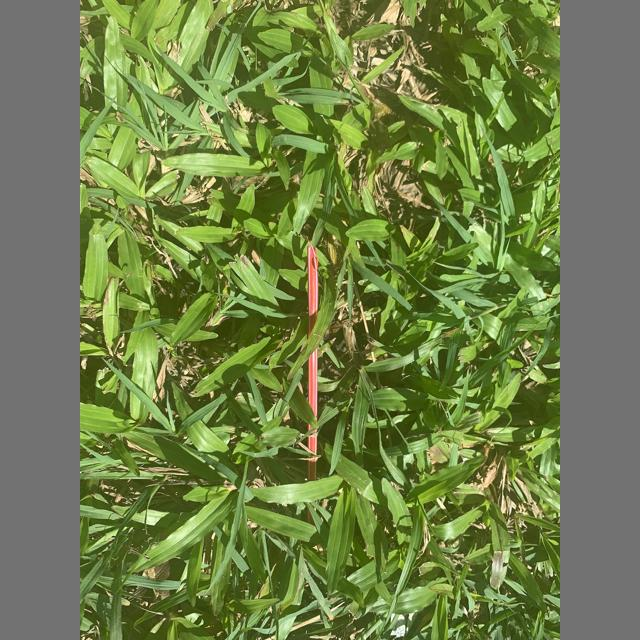litter: (306, 245, 318, 526)
